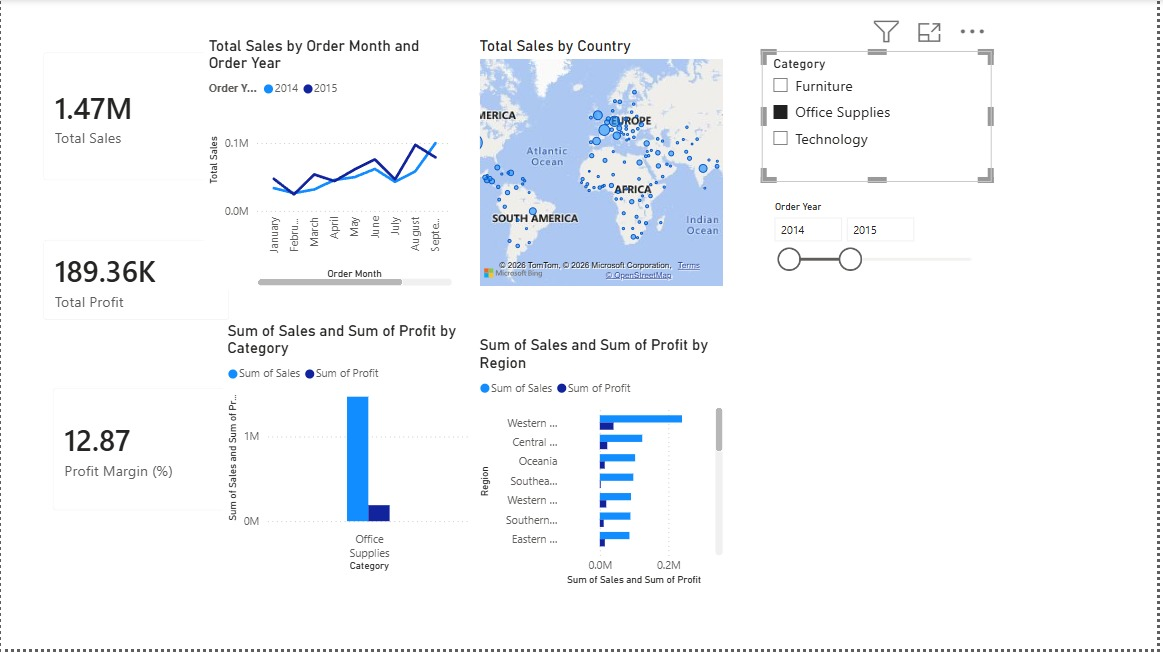

Layout of this report page (visuals, bound fields, positions):
{"tool":"powerbi","page":{"name":"Page 1","canvas":[1280,720],"ordinal":0},"visuals":[{"type":"cardVisual","fields":{"Data":["Orders.Total Sales"]},"box":[29.6,41.9,240.7,176.1],"z":0},{"type":"cardVisual","fields":{"Data":["Orders.Total Profit"]},"box":[29.6,249.4,240.7,123.8],"z":1000},{"type":"cardVisual","fields":{"Data":["Orders.Profit Margin (%)"]},"box":[40.1,413.3,230.2,170.9],"z":2000},{"type":"lineChart","fields":{"Category":["Orders.Order Month"],"Y":["Orders.Total Sales"],"Series":["Orders.Order Year"]},"box":[225,41.9,279,280.8],"z":3000},{"type":"map","fields":{"Category":["Orders.Country"],"Size":["Orders.Total Sales"]},"box":[524.9,41.9,279,280.8],"z":4000},{"type":"clusteredColumnChart","fields":{"Category":["Orders.Category"],"Y":["Sum(Orders.Sales)","Sum(Orders.Profit)"]},"box":[245.9,357.5,279,280.8],"z":5000},{"type":"clusteredBarChart","fields":{"Category":["Orders.Region"],"Y":["Sum(Orders.Sales)","Sum(Orders.Profit)"]},"box":[524.9,373.2,279,280.8],"z":6000},{"type":"slicer","fields":{"Values":["Orders.Order Year"]},"box":[844.1,218,252.9,104.6],"z":7000},{"type":"slicer","fields":{"Values":["Orders.Category"]},"box":[842.3,57.5,254.6,144.7],"z":8000}]}

Visuals, with their boxes on the page's 1280x720 design canvas (x1, y1, x2, y2). These are canvas units, not pixel positions in the 1163x653 screenshot, which may show the page scaled, cropped or inside an application window:
cardVisual - Orders.Total Sales: (left=30, top=42, right=270, bottom=218)
cardVisual - Orders.Total Profit: (left=30, top=249, right=270, bottom=373)
cardVisual - Orders.Profit Margin (%): (left=40, top=413, right=270, bottom=584)
lineChart - Orders.Order Month x Orders.Total Sales: (left=225, top=42, right=504, bottom=323)
map - Orders.Country x Orders.Total Sales: (left=525, top=42, right=804, bottom=323)
clusteredColumnChart - Orders.Category x Sum(Orders.Sales): (left=246, top=358, right=525, bottom=638)
clusteredBarChart - Orders.Region x Sum(Orders.Sales): (left=525, top=373, right=804, bottom=654)
slicer - Orders.Order Year: (left=844, top=218, right=1097, bottom=323)
slicer - Orders.Category: (left=842, top=58, right=1097, bottom=202)
